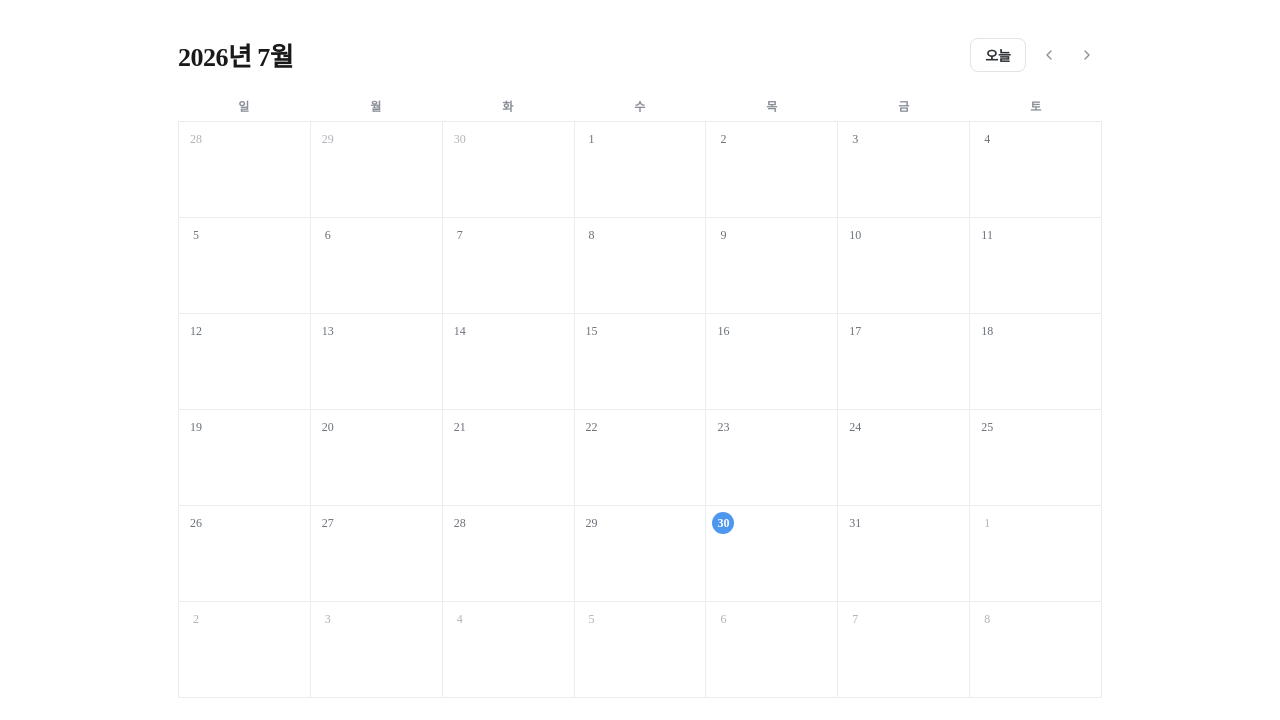
Test: 이전/다음 달 버튼으로 이동하고 오늘 버튼으로 현재 달로 돌아온다
Click the button named "다음 달" at (1087, 54), box [1072,40,1102,70]
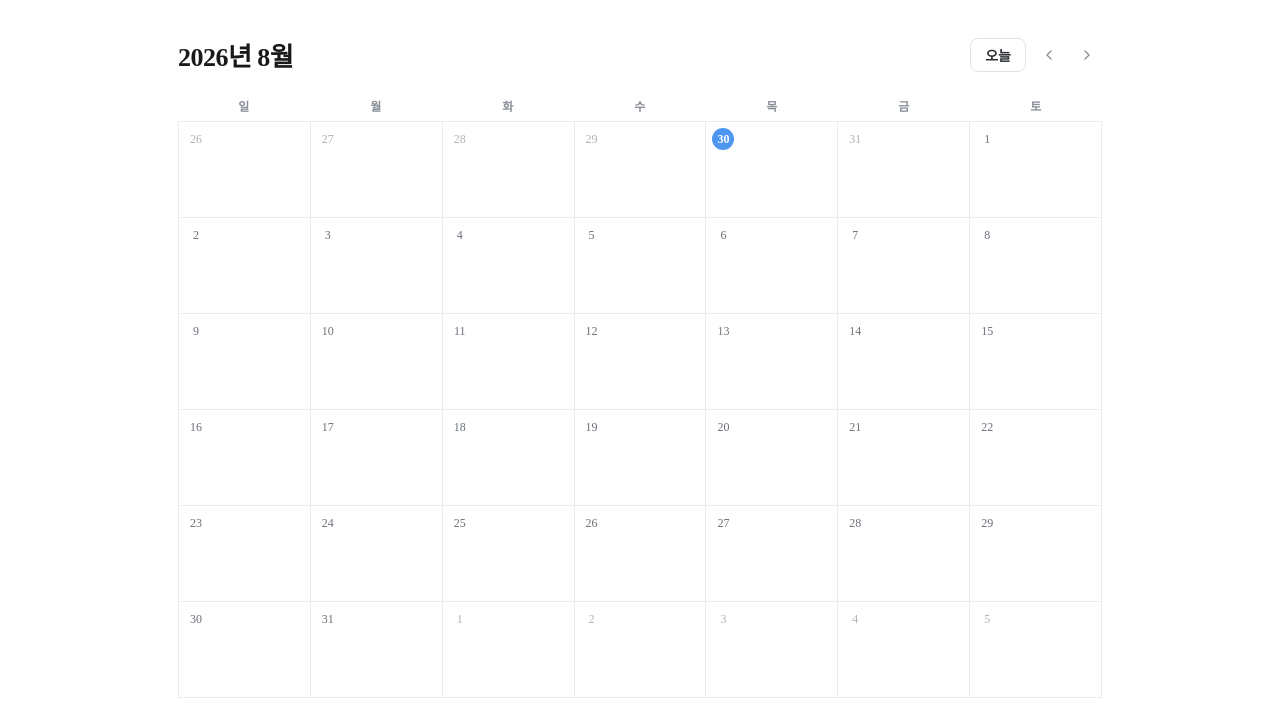
Expected: the heading "2026년 8월" is shown, [178,36,293,73]
Click the button named "이전 달" at (1049, 54), box [1034,40,1064,70]
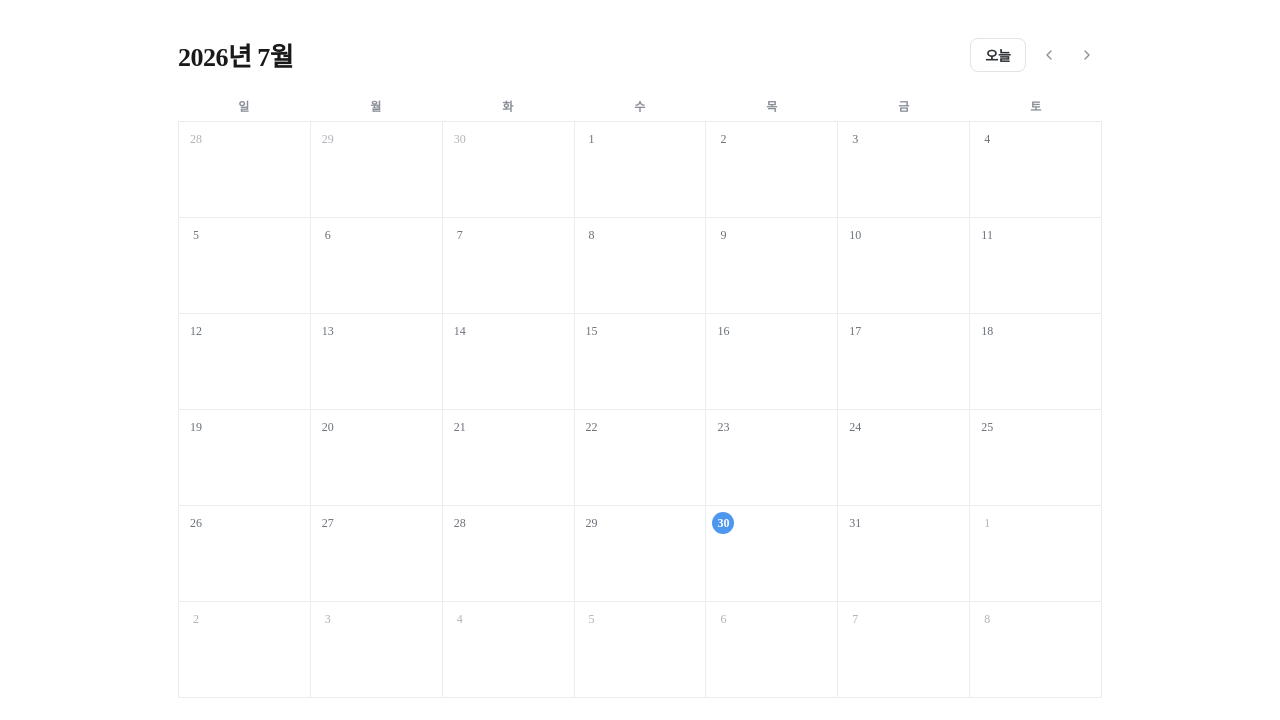
Click the button named "이전 달" at (1049, 54), box [1034,40,1064,70]
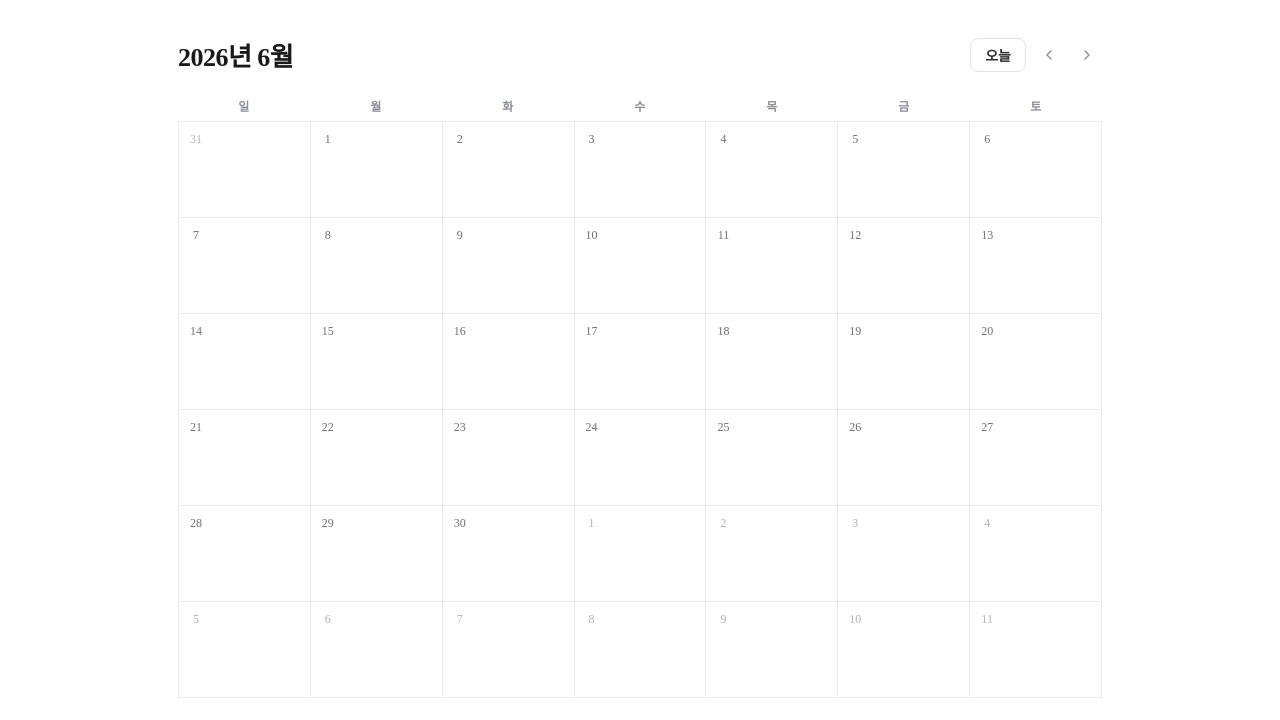
Expected: the heading "2026년 6월" is shown, [178,36,293,73]
Click the button "오늘" at (998, 54), box [970,38,1026,72]
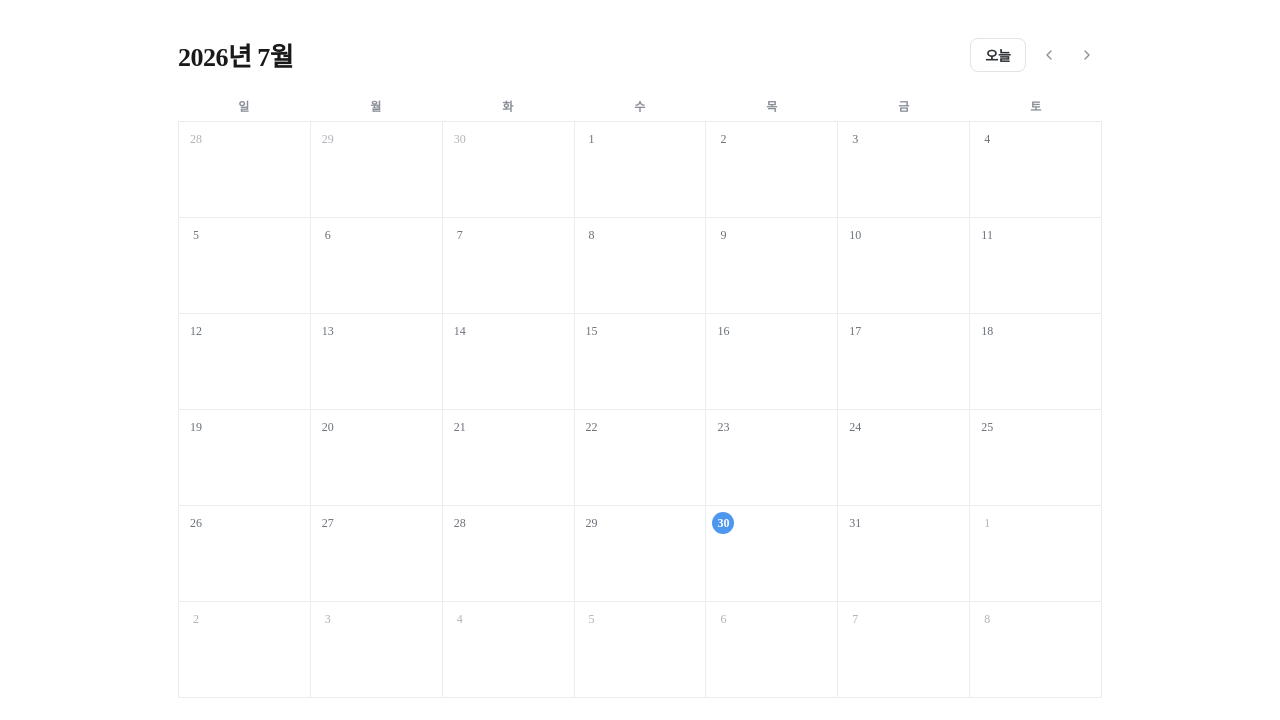
Expected: the heading "2026년 7월" is shown, [178,36,293,73]
